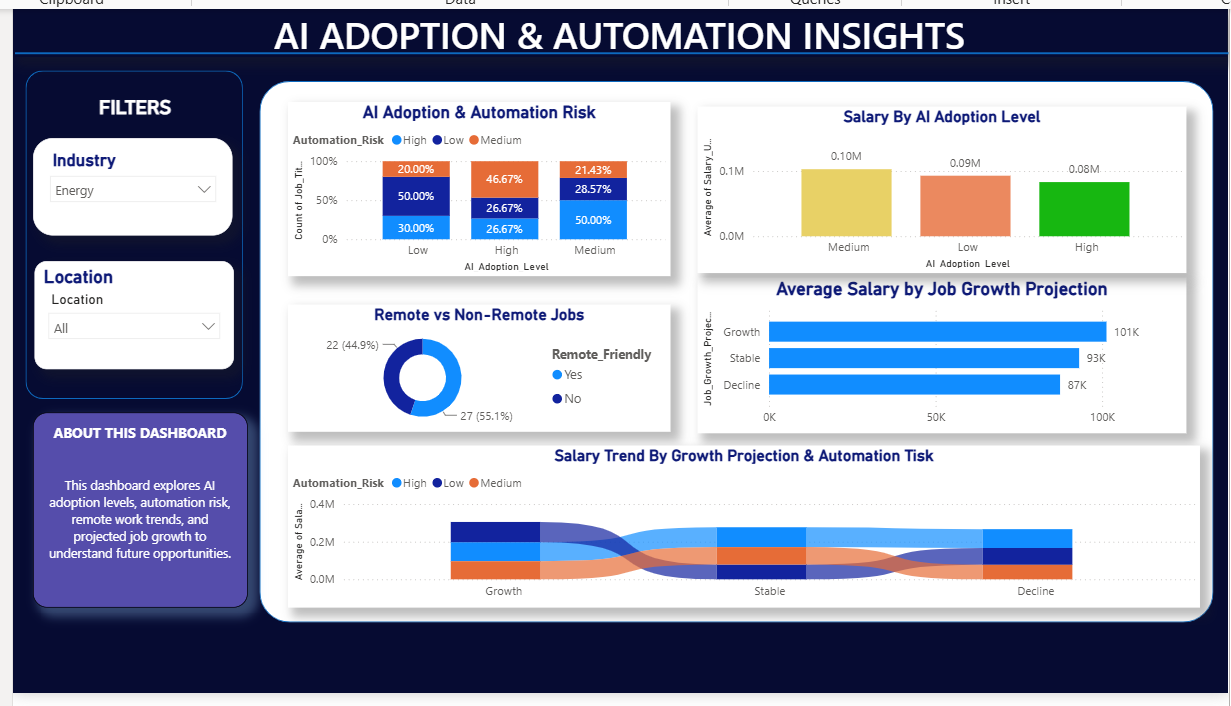

The page's visual inventory and layout, read from the dashboard file:
{"tool":"powerbi","page":{"name":"AI Adoption & Automation Insights","canvas":[1280,720],"ordinal":4},"visuals":[{"type":"shape","box":[14.2,64.7,229,345.8],"z":0},{"type":"shape","box":[260.5,75.8,1004.2,570],"z":1000},{"type":"hundredPercentStackedColumnChart","title":"AI Adoption & Automation Risk","fields":{"Category":["Sheet1.AI_Adoption_Level"],"Y":["CountNonNull(Sheet1.Job_Title)"],"Series":["Sheet1.Automation_Risk"]},"box":[290.5,97.9,402.6,183.2],"z":2000},{"type":"clusteredBarChart","title":"Average Salary by Job Growth Projection","fields":{"Category":["Sheet1.Job_Growth_Projection"],"Y":["Avg(Sheet1.Salary_USD)"]},"box":[721.6,282.6,514.7,164.2],"z":3000},{"type":"donutChart","title":"Remote vs Non-Remote Jobs","fields":{"Category":["Sheet1.Remote_Friendly"],"Y":["CountNonNull(Sheet1.Job_Title)"]},"box":[290.5,311.1,402.6,134.2],"z":4000},{"type":"clusteredColumnChart","title":"Salary By AI Adoption Level","fields":{"Category":["Sheet1.AI_Adoption_Level"],"Y":["Avg(Sheet1.Salary_USD)"]},"box":[721.6,102.6,514.7,175.3],"z":5000},{"type":"ribbonChart","title":"Salary Trend By Growth Projection & Automation Tisk","fields":{"Category":["Sheet1.Job_Growth_Projection"],"Y":["Avg(Sheet1.Salary_USD)"],"Series":["Sheet1.Automation_Risk"]},"box":[290.5,459.5,960,170.5],"z":6000},{"type":"textbox","title":"AI ADOPTION & AUTOMATION INSIGHTS","box":[0,0,1279,50.5],"z":7000},{"type":"textbox","box":[22.1,424.7,225.8,205.3],"z":8000},{"type":"slicer","fields":{"Values":["Sheet1.Industry"]},"box":[22.1,135.8,210,102.6],"z":9000},{"type":"slicer","title":"Location","fields":{"Values":["Sheet1.Location"]},"box":[23.7,265.3,210,113.7],"z":10000},{"type":"shape","box":[2.6,1.6,1277.4,90],"z":11000},{"type":"textbox","title":"FILTERS","box":[33.2,91.6,192.6,28.4],"z":12000}]}

Visuals, with their boxes on the page's 1280x720 design canvas (x1, y1, x2, y2). These are canvas units, not pixel positions in the 1231x706 screenshot, which may show the page scaled, cropped or inside an application window:
shape: left=14, top=65, right=243, bottom=410
shape: left=260, top=76, right=1265, bottom=646
"AI Adoption & Automation Risk" hundredPercentStackedColumnChart: left=290, top=98, right=693, bottom=281
"Average Salary by Job Growth Projection" clusteredBarChart: left=722, top=283, right=1236, bottom=447
"Remote vs Non-Remote Jobs" donutChart: left=290, top=311, right=693, bottom=445
"Salary By AI Adoption Level" clusteredColumnChart: left=722, top=103, right=1236, bottom=278
"Salary Trend By Growth Projection & Automation Tisk" ribbonChart: left=290, top=460, right=1250, bottom=630
"AI ADOPTION & AUTOMATION INSIGHTS" textbox: left=0, top=0, right=1279, bottom=50
textbox: left=22, top=425, right=248, bottom=630
slicer - Sheet1.Industry: left=22, top=136, right=232, bottom=238
"Location" slicer: left=24, top=265, right=234, bottom=379
shape: left=3, top=2, right=1280, bottom=92
"FILTERS" textbox: left=33, top=92, right=226, bottom=120
